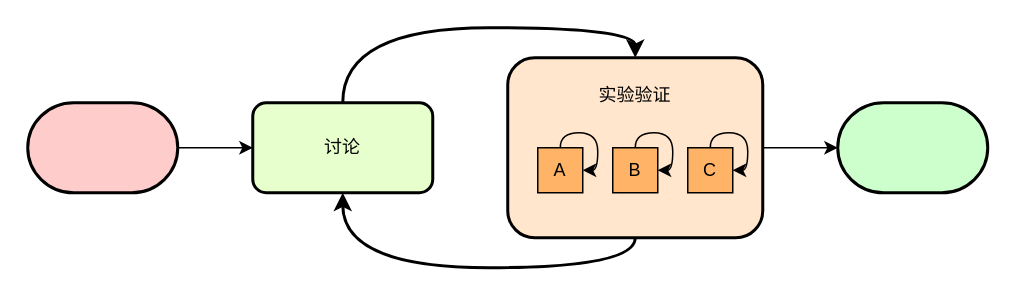
Some shapes in this 1014 by 294 pixel diagram are drawn without their labels. The shapes that lost their labels are listed below. From the top down, each one's box as (x1, y1, x2, y2) in pixels, then its label:
(26, 100, 178, 194): 提议/启动
(836, 100, 988, 194): 终端用户
